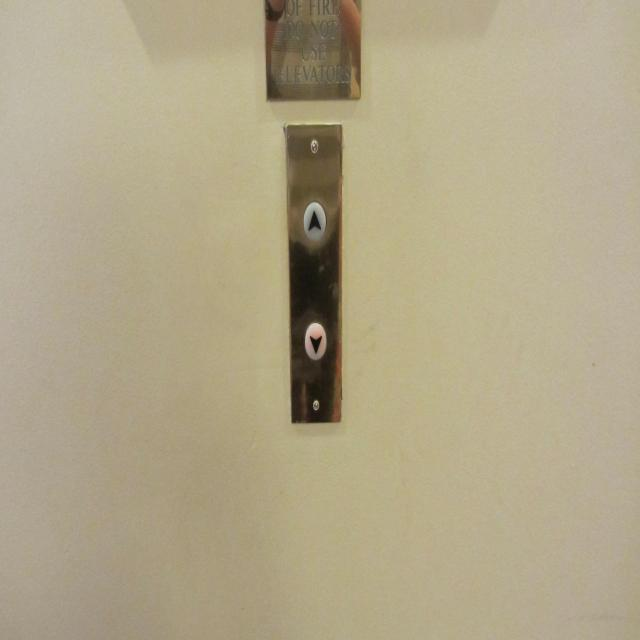down: (303, 318, 328, 363)
up: (302, 200, 327, 244)
